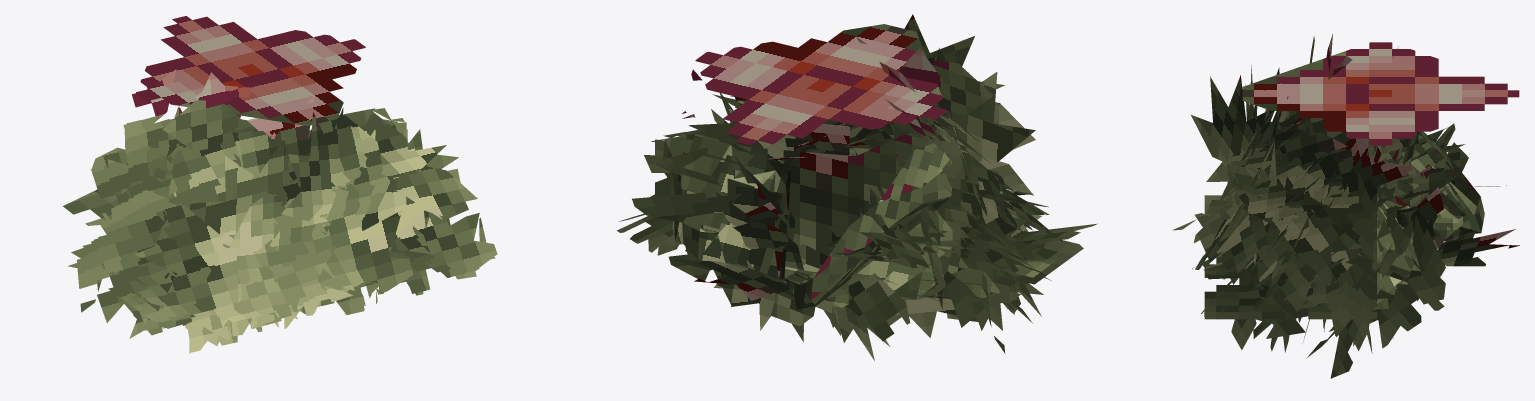
The model's file is flower_901_cut_hd.glb.
The picture shows the model from 3 angles, left to right: view 1: azimuth 30°, elevation 25°; view 2: azimuth 150°, elevation 25°; view 3: azimuth 270°, elevation 25°; orthographic projection. The views are drawn at different scales.
Visible parts, largest first — view 1: flower_901_cut_lod0; view 2: flower_901_cut_lod0; view 3: flower_901_cut_lod0.
Part boxes in pixels (bbox=[...]): flower_901_cut_lod0: bbox=[63, 16, 497, 353]; flower_901_cut_lod0: bbox=[617, 14, 1097, 360]; flower_901_cut_lod0: bbox=[1172, 34, 1519, 378].
Bounding box in the file's own units: 0.6214 × 0.3755 × 0.4771.
Materials: 1 (1 with a texture image).
